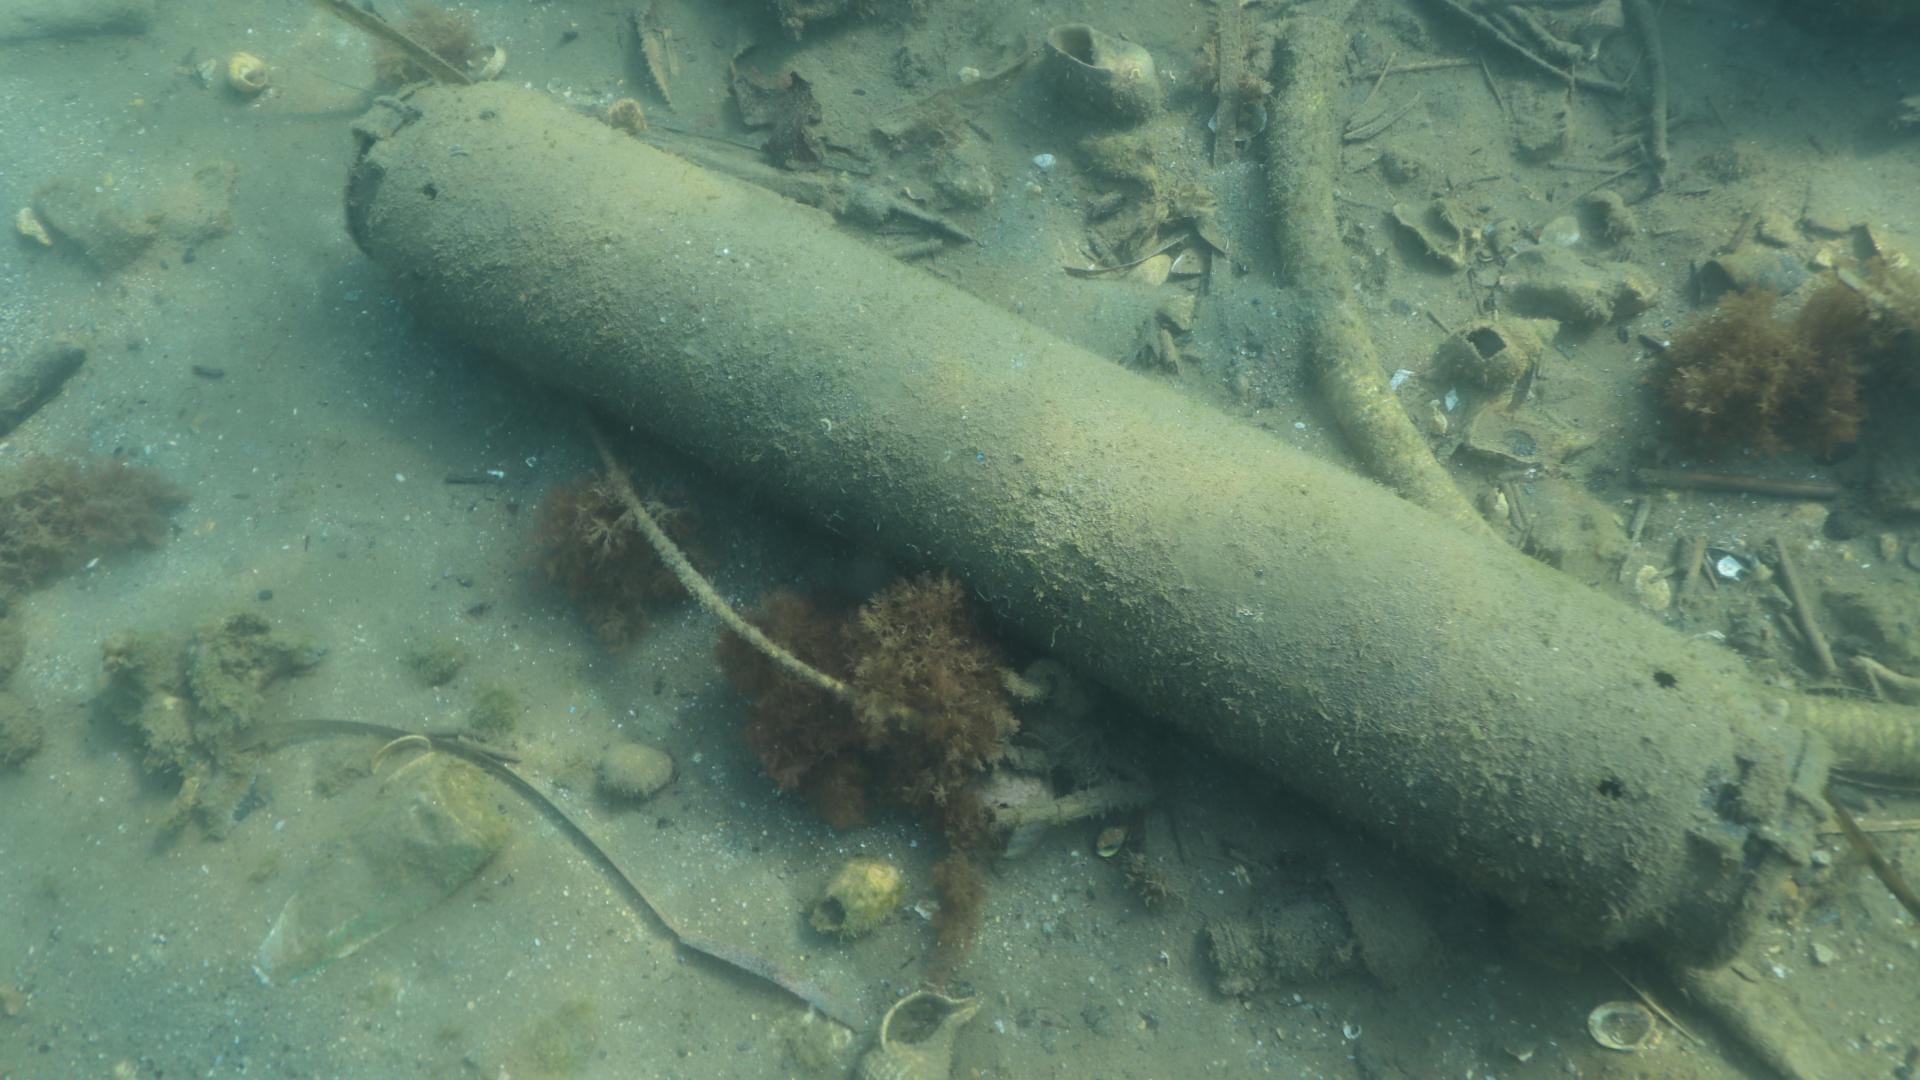eel fish trap: (338, 78, 1836, 976)
other objects: (1193, 20, 1542, 545)
rope: (505, 345, 931, 742)
